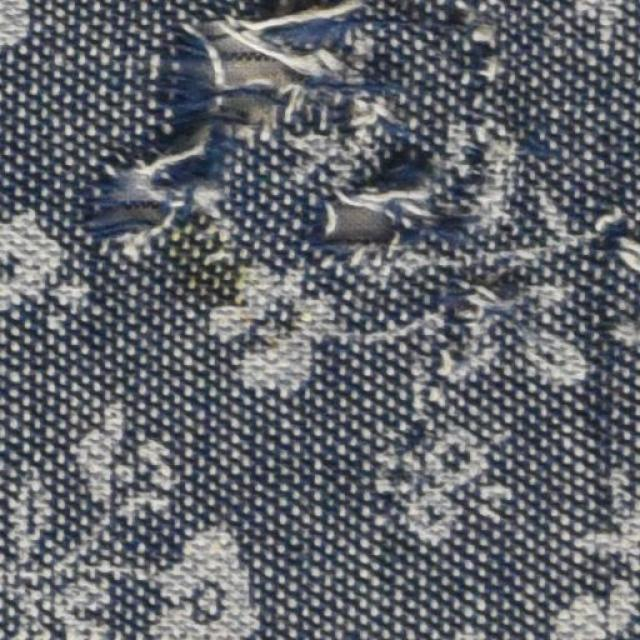Hole: (223, 28, 275, 117), (340, 207, 386, 245), (115, 181, 158, 214)
Snag: (323, 11, 546, 424), (78, 12, 256, 241)
